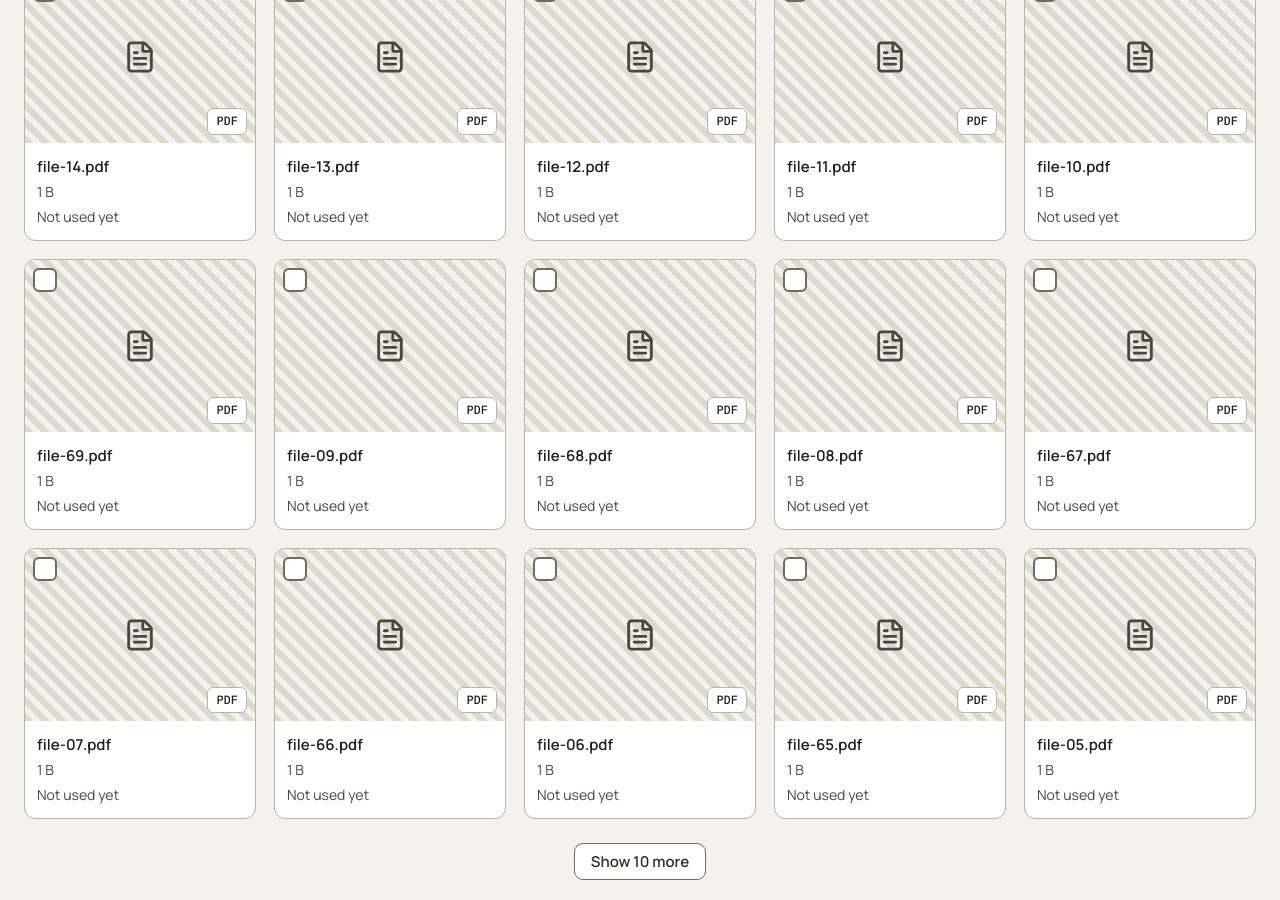
Scenario: MediaBrowser in manage mode › loads one page at a time and offers more
(page scrolled)
Check: the link "file-69.pdf" is shown, box [37,445,112,466]
What coordinates should you click on to do the following:
click the button "Show 10 more"
I would click on:
 (640, 861)
Its box is [574,843,706,880].
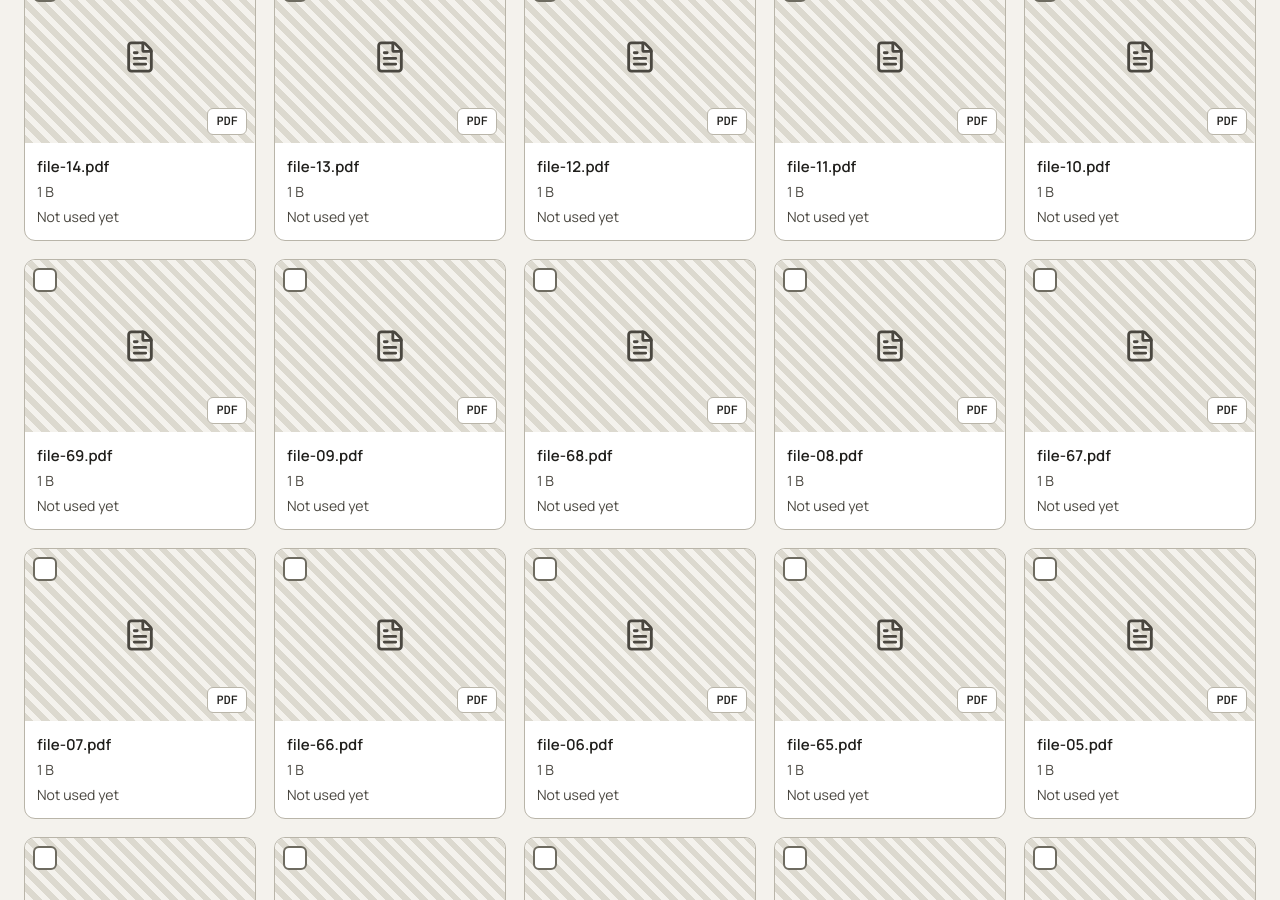
Check: the button "Show 10 more" is gone
